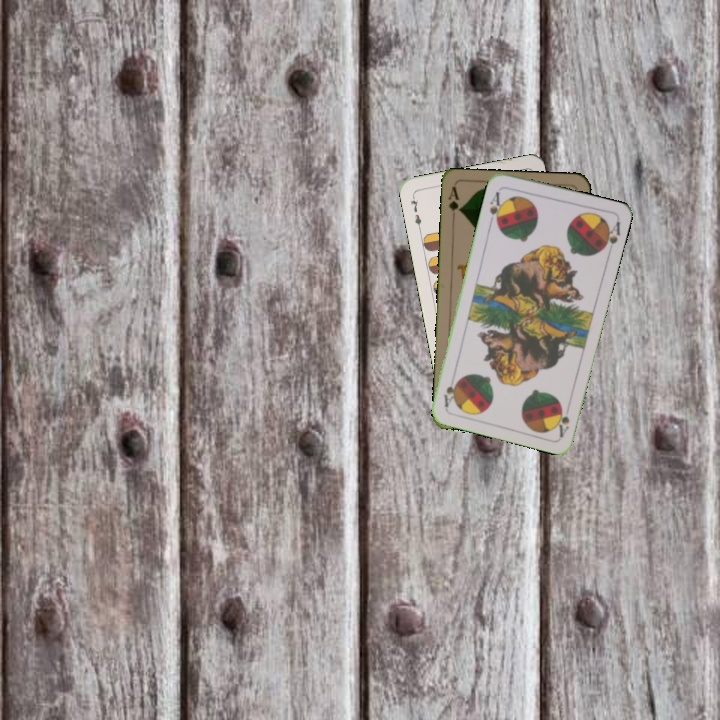E7: (407, 192, 424, 232)
GA: (444, 183, 463, 224)
SA: (485, 187, 506, 227), (552, 399, 573, 439)
